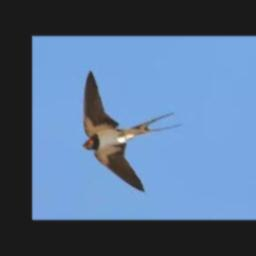Swallow: (81, 70, 181, 191)
